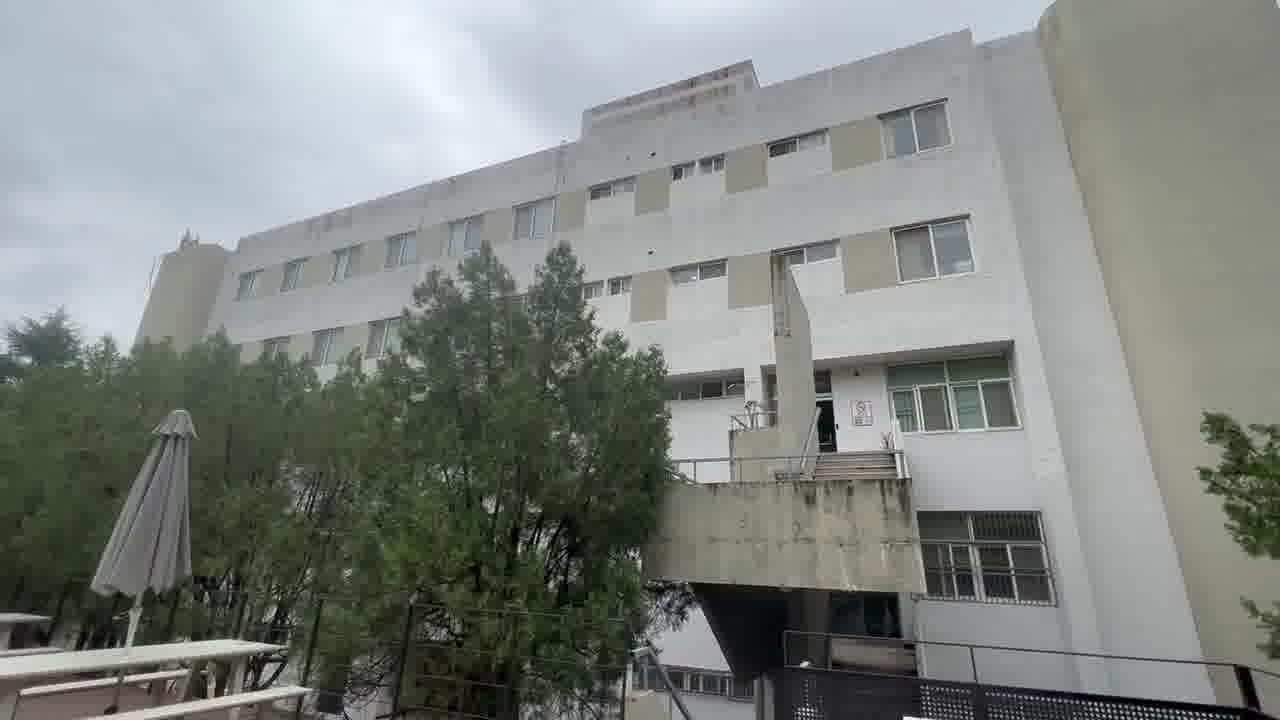building: (639, 54, 1187, 628)
